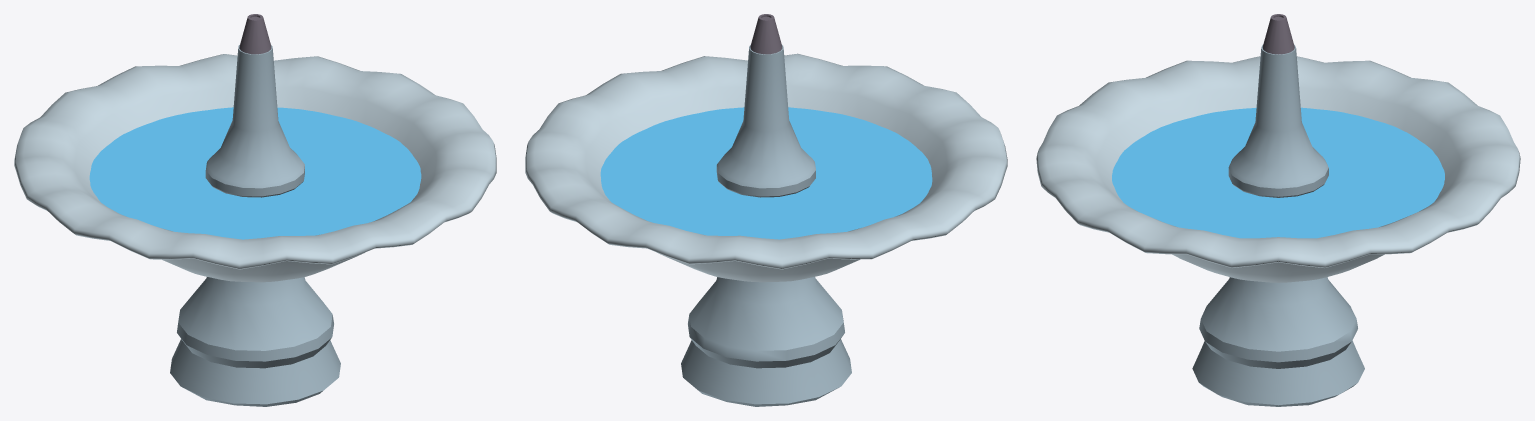
Rendered from Fountain_01.fbx.
3 views of the same model, side by side, from view 1: azimuth 30°, elevation 25°; view 2: azimuth 150°, elevation 25°; view 3: azimuth 270°, elevation 25° (orthographic).
Visible parts, largest first — view 1: polySurface51, polySurface56, polySurface43, polySurface44; view 2: polySurface51, polySurface56, polySurface43, polySurface44; view 3: polySurface51, polySurface56, polySurface43, polySurface44.
Part boxes in pixels (bbox=[...]): polySurface51: bbox=[14, 54, 496, 282]; polySurface56: bbox=[89, 107, 421, 239]; polySurface43: bbox=[170, 45, 340, 406]; polySurface44: bbox=[239, 14, 271, 54]; polySurface51: bbox=[525, 53, 1007, 282]; polySurface56: bbox=[600, 107, 932, 239]; polySurface43: bbox=[681, 44, 851, 406]; polySurface44: bbox=[750, 14, 782, 54]; polySurface51: bbox=[1036, 56, 1520, 282]; polySurface56: bbox=[1112, 107, 1444, 238]; polySurface43: bbox=[1192, 44, 1364, 406]; polySurface44: bbox=[1262, 14, 1294, 54].
Bounding box in the file's own units: 184 × 150 × 184.
2 materials, 2 textured.
